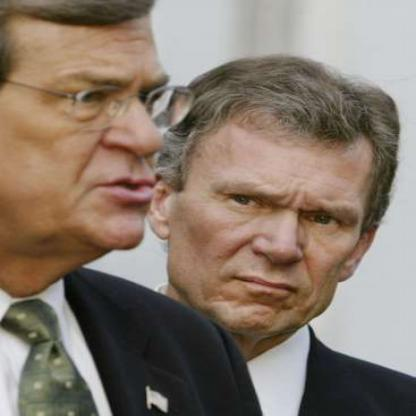face: (176, 71, 388, 343), (1, 1, 211, 261)
